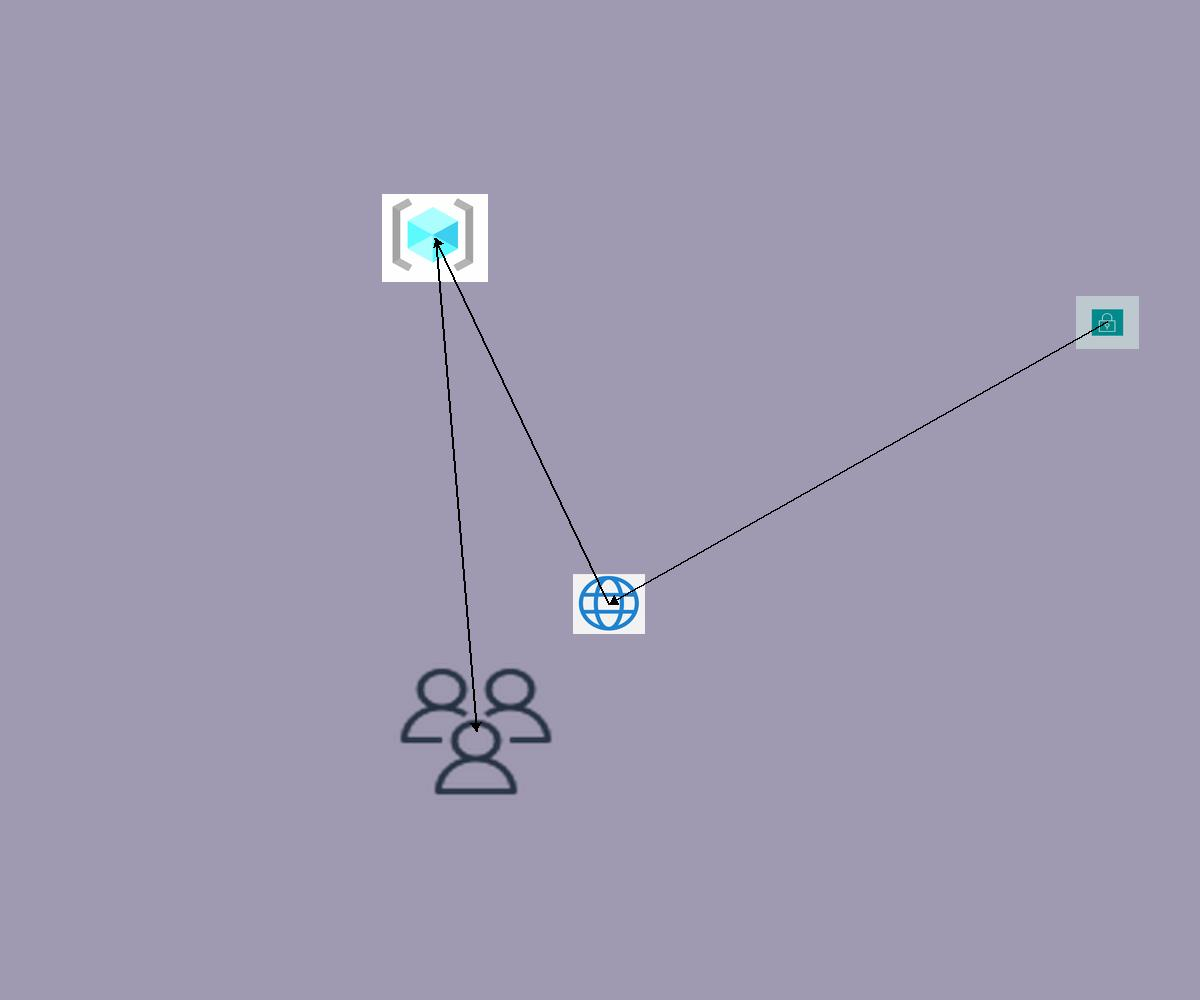AWS-Private-subnet: (1076, 296, 1139, 349)
AWS-Res_Users: (394, 663, 558, 800)
Azure_http: (573, 574, 645, 634)
Azure_resource_group: (382, 194, 488, 282)
